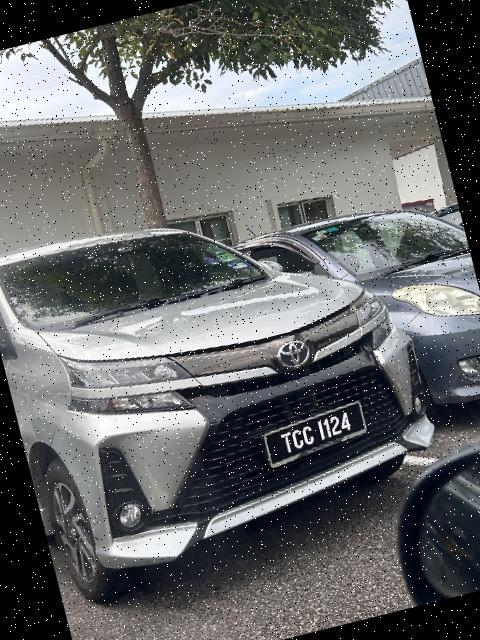License_Plate: (259, 399, 374, 475)
TCC1124: (259, 399, 374, 475)
car: (1, 159, 460, 608), (222, 179, 480, 476)
